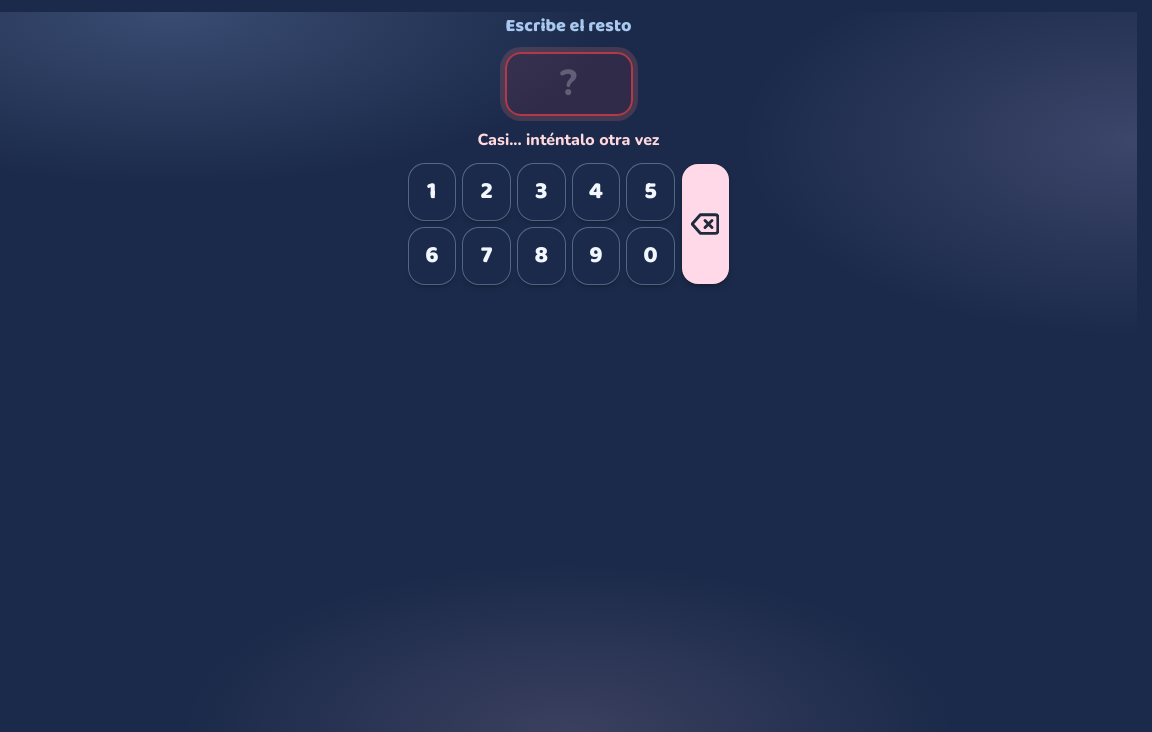
it: DigitInput con teclado en pantalla › con error, la siguiente cifra sustituye a la respuesta equivocada
The image size is (1152, 732).
Type "3" into the field.
click(568, 84); type("3")  # box [504,52,632,116]
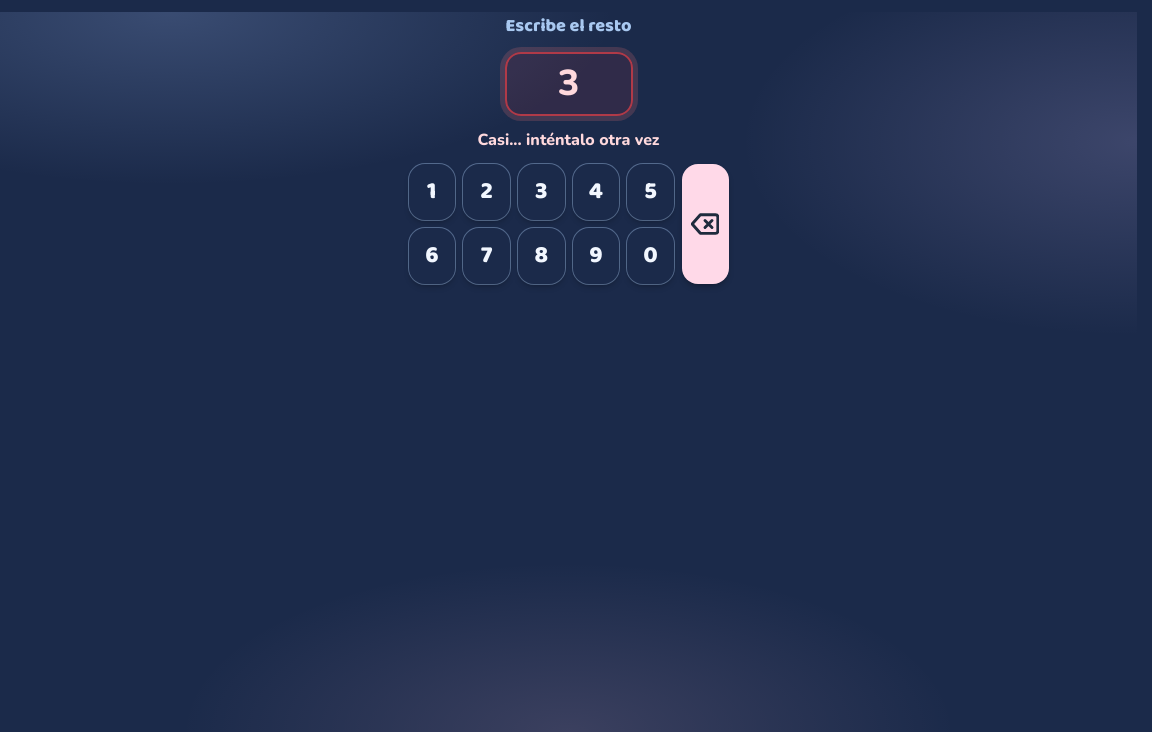
Expected: the text "Casi... inténtalo otra vez" is shown, [477,128,660,152]
Click the button "1".
click(432, 192)  # box [408,164,455,220]
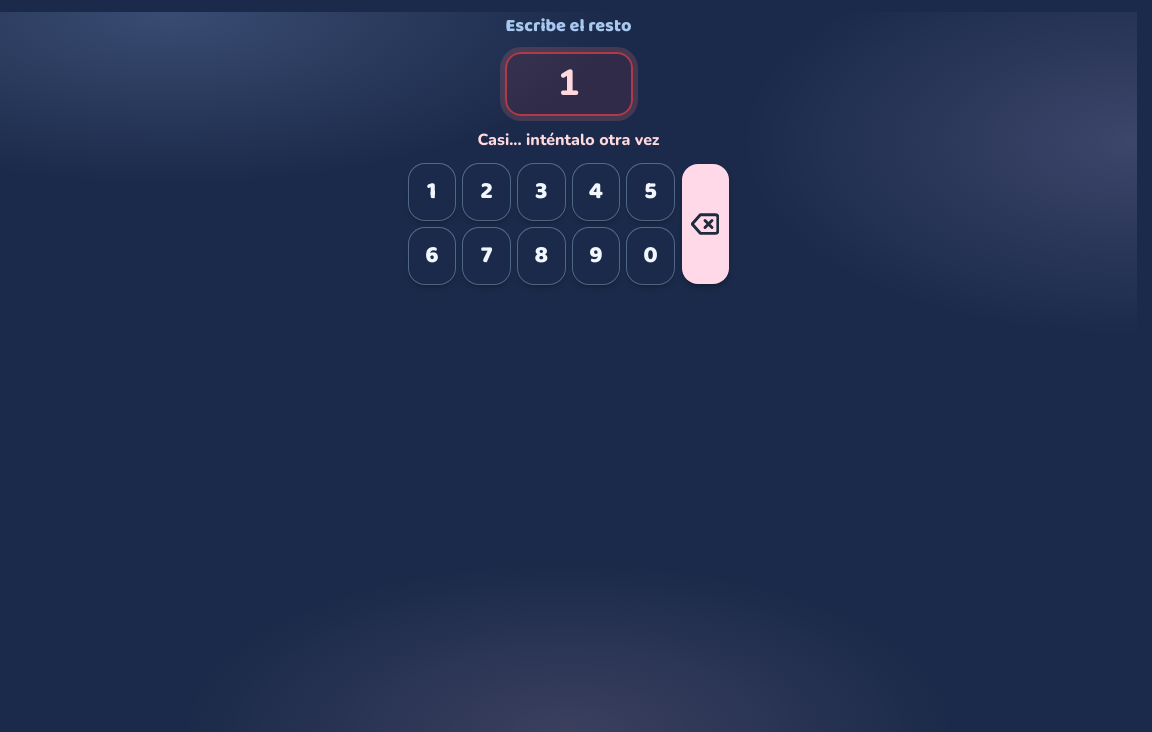
Expected: the field holds "1", [504,52,632,116]
